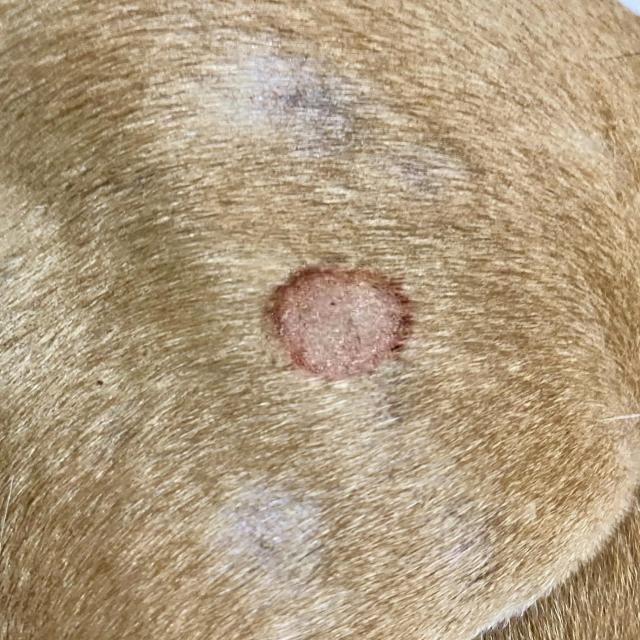ringworm: (238, 258, 445, 388)
